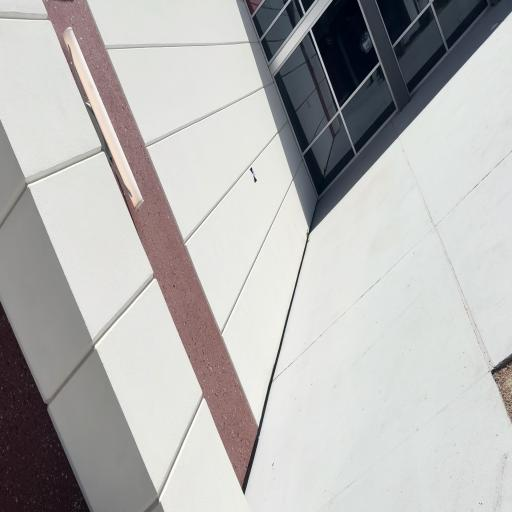target4: (249, 167, 258, 184)
